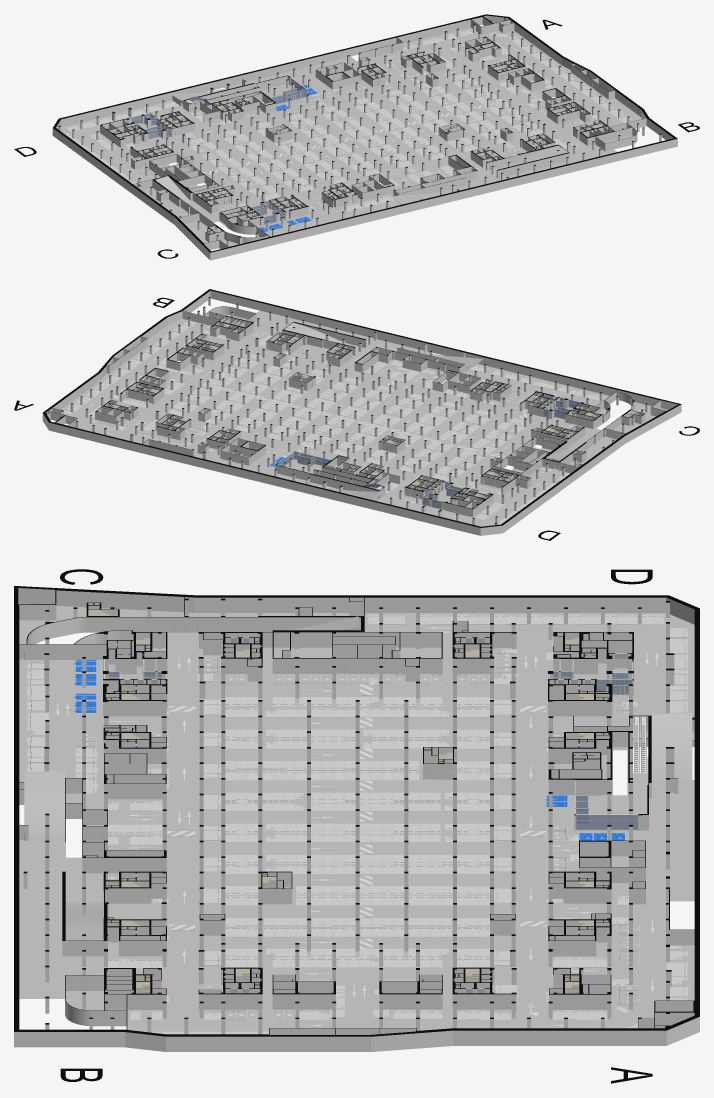
The picture shows the model from 3 angles, top to bottom: view 1: azimuth 30°, elevation 25°; view 2: azimuth 150°, elevation 25°; view 3: azimuth 270°, elevation 25°; orthographic projection. The views are drawn at different scales.
Parts seen in each view (by area): view 1: B3F; view 2: B3F; view 3: B3F.
Boxes of the visible parts, x1,y1,x2,y2 form: B3F: (14, 14, 699, 260); B3F: (14, 289, 699, 540); B3F: (14, 569, 699, 1083).
Size of the model in its own units: 280 by 8.33 by 158.
